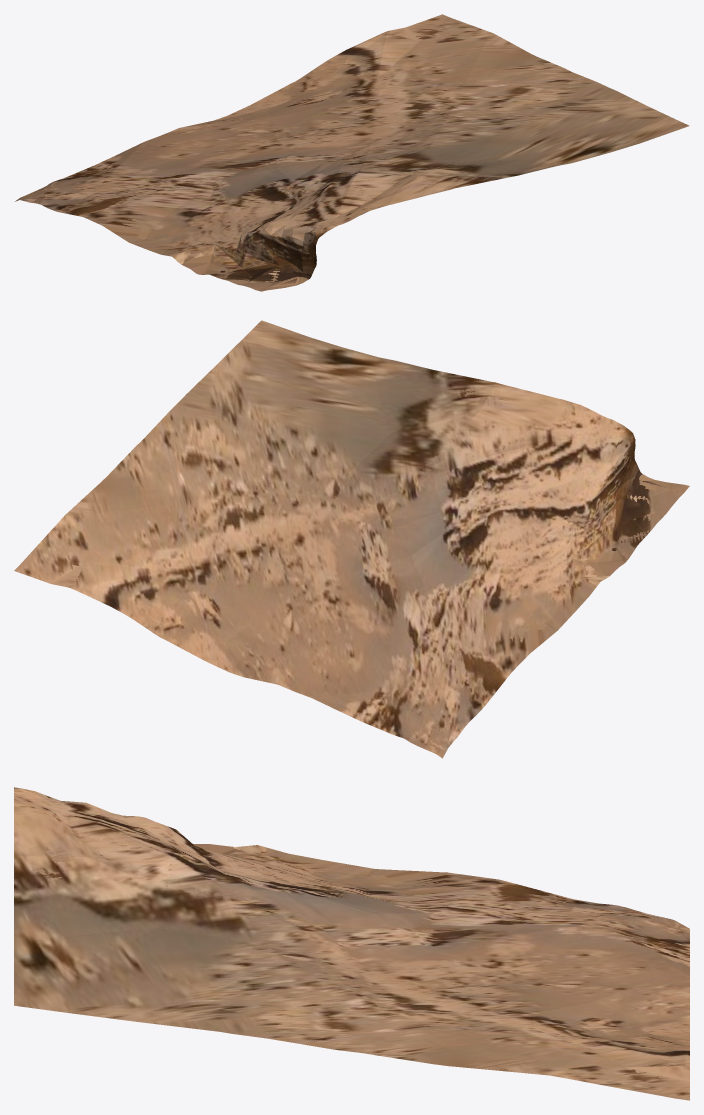
3 renders of one model, top to bottom at view 1: azimuth 30°, elevation 25°; view 2: azimuth 150°, elevation 25°; view 3: azimuth 270°, elevation 25°, orthographic. The views are drawn at different scales.
Size of the model in its own units: 1.04 by 0.3559 by 1.04.
Materials: 3 (3 with a texture image).
